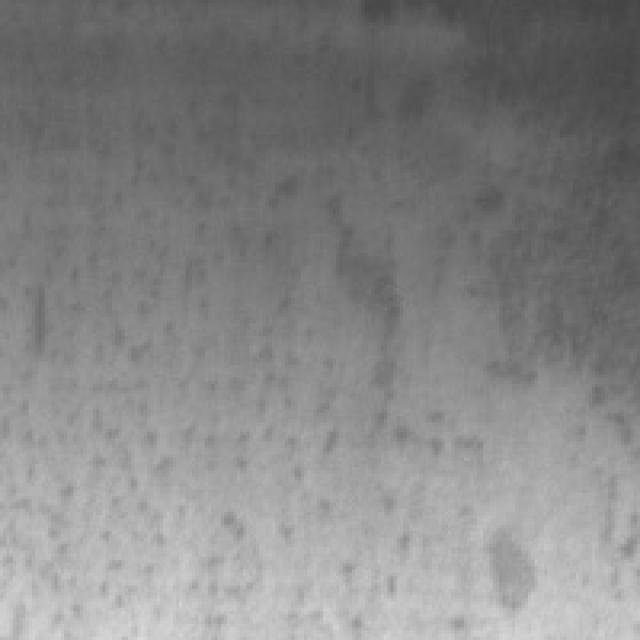pitted_surface: (0, 92, 630, 630)
